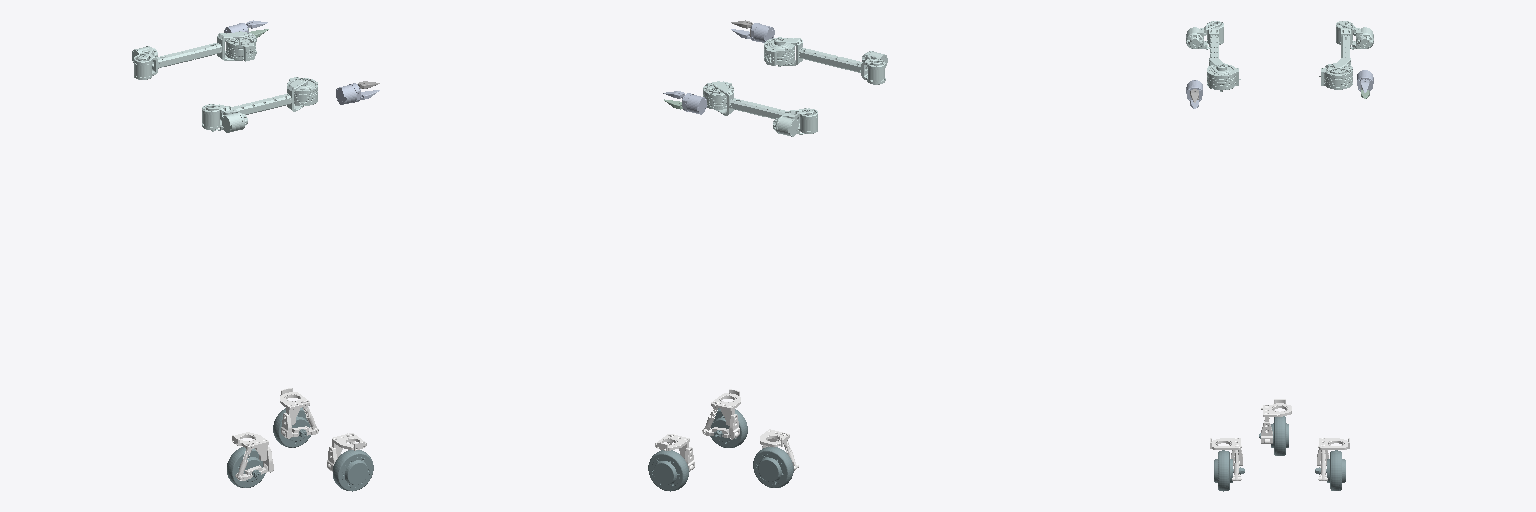
--- What the picture shows (computed from the rendered views, not written in the file) ---
3 views of the same robot in one strip: view 1: azimuth 30°, elevation 25°; view 2: azimuth 150°, elevation 25°; view 3: azimuth 270°, elevation 25° (orthographic).
Model r1urdfv20 with 24 links and 23 joints (15 revolute, 3 continuous, 4 prismatic, 1 fixed), rooted at base_link, posed all joints at 0.
Links seen in each view (by area): view 1: left_arm_2_Link, front_right_wheel_Link, right_arm_2_Link, front_left_turn_Link, rear_turn_Link, rear_wheel_Link, front_left_wheel_Link, left_arm_1_Link, front_right_turn_Link, right_arm_3_Link, right_arm_1_Link; view 2: right_arm_2_Link, rear_wheel_Link, front_left_wheel_Link, left_arm_2_Link, front_right_turn_Link, front_right_wheel_Link, right_arm_1_Link, front_left_turn_Link, left_arm_3_Link, rear_turn_Link; view 3: left_arm_1_Link, right_arm_1_Link, front_right_wheel_Link, front_left_wheel_Link, rear_turn_Link, front_right_turn_Link, front_left_turn_Link, rear_wheel_Link, right_arm_2_Link, left_arm_2_Link.
Link boxes in pixels (x1=…): left_arm_2_Link: x1=134, y1=32, x2=245, y2=79; front_right_wheel_Link: x1=333, y1=450, x2=373, y2=491; right_arm_2_Link: x1=202, y1=78, x2=307, y2=129; front_left_turn_Link: x1=280, y1=388, x2=318, y2=438; rear_turn_Link: x1=232, y1=432, x2=273, y2=480; rear_wheel_Link: x1=227, y1=447, x2=265, y2=487; front_left_wheel_Link: x1=273, y1=407, x2=310, y2=447; left_arm_1_Link: x1=225, y1=31, x2=256, y2=61; front_right_turn_Link: x1=327, y1=433, x2=366, y2=471; right_arm_3_Link: x1=206, y1=104, x2=247, y2=132; right_arm_1_Link: x1=287, y1=77, x2=317, y2=106; right_arm_2_Link: x1=774, y1=37, x2=885, y2=84; rear_wheel_Link: x1=753, y1=447, x2=793, y2=487; front_left_wheel_Link: x1=648, y1=450, x2=688, y2=491; left_arm_2_Link: x1=713, y1=82, x2=817, y2=133; front_right_turn_Link: x1=702, y1=389, x2=740, y2=439; front_right_wheel_Link: x1=710, y1=408, x2=747, y2=447; right_arm_1_Link: x1=764, y1=38, x2=794, y2=66; front_left_turn_Link: x1=655, y1=434, x2=694, y2=471; left_arm_3_Link: x1=773, y1=108, x2=813, y2=136; rear_turn_Link: x1=760, y1=429, x2=798, y2=470; left_arm_1_Link: x1=1319, y1=63, x2=1352, y2=89; right_arm_1_Link: x1=1207, y1=64, x2=1240, y2=91; front_right_wheel_Link: x1=1214, y1=450, x2=1244, y2=491; front_left_wheel_Link: x1=1315, y1=450, x2=1345, y2=490; rear_turn_Link: x1=1261, y1=399, x2=1291, y2=443; front_right_turn_Link: x1=1210, y1=438, x2=1242, y2=480; front_left_turn_Link: x1=1317, y1=438, x2=1349, y2=480; rear_wheel_Link: x1=1259, y1=416, x2=1288, y2=455; right_arm_2_Link: x1=1207, y1=21, x2=1226, y2=70; left_arm_2_Link: x1=1333, y1=21, x2=1352, y2=68.
Size in the robot's own frame: 0.6387 by 0.635 by 1.49 metres.
18 mesh visuals loaded from 24 distinct referenced files (18 binary STL); not drawn: 6 (reference not matched to a file when rendering).

robot.urdf — r1urdfv20:
<?xml version="1.0" encoding="utf-8"?>
<!-- This URDF was automatically created by SolidWorks to URDF Exporter! Originally created by Stephen Brawner ([email redacted]) 
     Commit Version: 1.6.0-4-g7f85cfe  Build Version: 1.6.7995.38578
     For more information, please see http://wiki.ros.org/sw_urdf_exporter -->
<robot
  name="r1urdfv20">
  <link
    name="base_link">
    <inertial>
      <origin
        xyz="-0.026382 -0.0012728 0.5966"
        rpy="0 0 0" />
      <mass
        value="15.491" />
      <inertia
        ixx="0.13933"
        ixy="-3.1833E-06"
        ixz="-7.9787E-05"
        iyy="0.090681"
        iyz="-1.7144E-05"
        izz="0.074444" />
    </inertial>
    <visual>
      <origin
        xyz="0 0 0"
        rpy="0 0 0" />
      <geometry>
        <mesh
          filename="package://r1urdfv20/meshes/base_link.STL" />
      </geometry>
      <material
        name="">
        <color
          rgba="0.6 0.6 0.6 1" />
      </material>
    </visual>
    <collision>
      <origin
        xyz="0 0 0"
        rpy="0 0 0" />
      <geometry>
        <mesh
          filename="package://r1urdfv20/meshes/base_link.STL" />
      </geometry>
    </collision>
  </link>
  <link
    name="right_arm_1_Link">
    <inertial>
      <origin
        xyz="0.00048295 0.066513 -4.391E-05"
        rpy="0 0 0" />
      <mass
        value="0.3988" />
      <inertia
        ixx="0.00047196"
        ixy="2.0689E-07"
        ixz="-1.1491E-08"
        iyy="0.00029232"
        iyz="3.8468E-09"
        izz="0.00029753" />
    </inertial>
    <visual>
      <origin
        xyz="0 0 0"
        rpy="0 0 0" />
      <geometry>
        <mesh
          filename="package://r1urdfv20/meshes/right_arm_1_Link.STL" />
      </geometry>
      <material
        name="">
        <color
          rgba="0.86275 0.93333 0.92941 1" />
      </material>
    </visual>
    <collision>
      <origin
        xyz="0 0 0"
        rpy="0 0 0" />
      <geometry>
        <mesh
          filename="package://r1urdfv20/meshes/right_arm_1_Link.STL" />
      </geometry>
    </collision>
  </link>
  <joint
    name="right_arm_1"
    type="revolute">
    <origin
      xyz="-0.055 -0.1293 1.375"
      rpy="3.1416 1.5708 0" />
    <parent
      link="base_link" />
    <child
      link="right_arm_1_Link" />
    <axis
      xyz="0 1 0" />
    <limit
      lower="-2.9671"
      upper="2.9671"
      effort="40"
      velocity="20.944" />
  </joint>
  <link
    name="right_arm_2_Link">
    <inertial>
      <origin
        xyz="0.242 0.032943 -0.021091"
        rpy="0 0 0" />
      <mass
        value="0.3043" />
      <inertia
        ixx="8.211E-05"
        ixy="-8.0136E-07"
        ixz="7.5433E-06"
        iyy="0.0004609"
        iyz="3.4645E-07"
        izz="0.00043677" />
    </inertial>
    <visual>
      <origin
        xyz="0 0 0"
        rpy="0 0 0" />
      <geometry>
        <mesh
          filename="package://r1urdfv20/meshes/right_arm_2_Link.STL" />
      </geometry>
      <material
        name="">
        <color
          rgba="0.86275 0.93333 0.92941 1" />
      </material>
    </visual>
    <collision>
      <origin
        xyz="0 0 0"
        rpy="0 0 0" />
      <geometry>
        <mesh
          filename="package://r1urdfv20/meshes/right_arm_2_Link.STL" />
      </geometry>
    </collision>
  </link>
  <joint
    name="right_arm_2"
    type="revolute">
    <origin
      xyz="0.0316 0.0682 0"
      rpy="1.5708 -1.5708 0" />
    <parent
      link="right_arm_1_Link" />
    <child
      link="right_arm_2_Link" />
    <axis
      xyz="0 1 0" />
    <limit
      lower="0"
      upper="3.1416"
      effort="40"
      velocity="20.944" />
  </joint>
  <link
    name="right_arm_3_Link">
    <inertial>
      <origin
        xyz="0.056289 0.028703 0.046011"
        rpy="0 0 0" />
      <mass
        value="0.17673" />
      <inertia
        ixx="7.1112E-05"
        ixy="7.7555E-08"
        ixz="-1.3314E-05"
        iyy="7.316E-05"
        iyz="1.5614E-07"
        izz="7.8276E-05" />
    </inertial>
    <visual>
      <origin
        xyz="0 0 0"
        rpy="0 0 0" />
      <geometry>
        <mesh
          filename="package://r1urdfv20/meshes/right_arm_3_Link.STL" />
      </geometry>
      <material
        name="">
        <color
          rgba="0.86275 0.93333 0.92941 1" />
      </material>
    </visual>
    <collision>
      <origin
        xyz="0 0 0"
        rpy="0 0 0" />
      <geometry>
        <mesh
          filename="package://r1urdfv20/meshes/right_arm_3_Link.STL" />
      </geometry>
    </collision>
  </link>
  <joint
    name="right_arm_3"
    type="revolute">
    <origin
      xyz="0.3493 0.0602 -0.02"
      rpy="0 1.6424 3.1416" />
    <parent
      link="right_arm_2_Link" />
    <child
      link="right_arm_3_Link" />
    <axis
      xyz="0 -1 0" />
    <limit
      lower="-3.2289"
      upper="0"
      effort="27"
      velocity="7.5398" />
  </joint>
  <link
    name="right_arm_4_Link">
    <inertial>
      <origin
        xyz="-0.00011589 -0.00095341 0.1625"
        rpy="0 0 0" />
      <mass
        value="0.1739" />
      <inertia
        ixx="9.6664E-05"
        ixy="-1.1432E-08"
        ixz="2.2087E-08"
        iyy="0.00010742"
        iyz="8.1899E-08"
        izz="4.3082E-05" />
    </inertial>
    <visual>
      <origin
        xyz="0 0 0"
        rpy="0 0 0" />
      <geometry>
        <mesh
          filename="package://r1urdfv20/meshes/right_arm_4_Link.STL" />
      </geometry>
      <material
        name="">
        <color
          rgba="0.80784 0.84314 0.90588 1" />
      </material>
    </visual>
    <collision>
      <origin
        xyz="0 0 0"
        rpy="0 0 0" />
      <geometry>
        <mesh
          filename="package://r1urdfv20/meshes/right_arm_4_Link.STL" />
      </geometry>
    </collision>
  </link>
  <joint
    name="right_arm_4"
    type="revolute">
    <origin
      xyz="0.064765 0.0286 0.075477"
      rpy="-0.071618 0 1.5708" />
    <parent
      link="right_arm_3_Link" />
    <child
      link="right_arm_4_Link" />
    <axis
      xyz="0 0 1" />
    <limit
      lower="-2.9671"
      upper="2.9671"
      effort="7"
      velocity="25.133" />
  </joint>
  <link
    name="right_arm_5_Link">
    <inertial>
      <origin
        xyz="0.053183 7.0332E-05 -0.015834"
        rpy="0 0 0" />
      <mass
        value="0.12576" />
      <inertia
        ixx="4.7409E-05"
        ixy="-1.1419E-08"
        ixz="-1.355E-07"
        iyy="3.8455E-05"
        iyz="2.2091E-08"
        izz="4.0187E-05" />
    </inertial>
    <visual>
      <origin
        xyz="0 0 0"
        rpy="0 0 0" />
      <geometry>
        <mesh
          filename="package://r1urdfv20/meshes/right_arm_5_Link.STL" />
      </geometry>
      <material
        name="">
        <color
          rgba="0.80784 0.84314 0.90588 1" />
      </material>
    </visual>
    <collision>
      <origin
        xyz="0 0 0"
        rpy="0 0 0" />
      <geometry>
        <mesh
          filename="package://r1urdfv20/meshes/right_arm_5_Link.STL" />
      </geometry>
    </collision>
  </link>
  <joint
    name="right_arm_5"
    type="revolute">
    <origin
      xyz="0 -0.019 0.203"
      rpy="1.5708 -1.5708 0" />
    <parent
      link="right_arm_4_Link" />
    <child
      link="right_arm_5_Link" />
    <axis
      xyz="0 0 1" />
    <limit
      lower="-1.5708"
      upper="1.5708"
      effort="7"
      velocity="25.133" />
  </joint>
  <link
    name="right_arm_6_Link">
    <inertial>
      <origin
        xyz="9.006E-05 -0.015875 1.5779E-05"
        rpy="0 0 0" />
      <mass
        value="0.12251" />
      <inertia
        ixx="3.7405E-05"
        ixy="-1.1418E-08"
        ixz="-2.2072E-08"
        iyy="5.199E-05"
        iyz="-2.2628E-12"
        izz="3.9632E-05" />
    </inertial>
    <visual>
      <origin
        xyz="0 0 0"
        rpy="0 0 0" />
      <geometry>
        <mesh
          filename="package://r1urdfv20/meshes/right_arm_6_Link.STL" />
      </geometry>
      <material
        name="">
        <color
          rgba="0.80784 0.84314 0.90588 1" />
      </material>
    </visual>
    <collision>
      <origin
        xyz="0 0 0"
        rpy="0 0 0" />
      <geometry>
        <mesh
          filename="package://r1urdfv20/meshes/right_arm_6_Link.STL" />
      </geometry>
    </collision>
  </link>
  <joint
    name="right_arm_6"
    type="revolute">
    <origin
      xyz="0.207 0 -0.019"
      rpy="0 0 -1.5708" />
    <parent
      link="right_arm_5_Link" />
    <child
      link="right_arm_6_Link" />
    <axis
      xyz="0 1 0" />
    <limit
      lower="-3.1416"
      upper="3.1416"
      effort="7"
      velocity="25.133" />
  </joint>
  <link
    name="right_gripper_1_Link">
    <inertial>
      <origin
        xyz="0.0151 0.046663 0.0013002"
        rpy="0 0 0" />
      <mass
        value="0.02084" />
      <inertia
        ixx="5.3593E-06"
        ixy="3.2105E-07"
        ixz="8.4132E-08"
        iyy="1.6486E-06"
        iyz="8.4389E-08"
        izz="4.7101E-06" />
    </inertial>
    <visual>
      <origin
        xyz="0 0 0"
        rpy="0 0 0" />
      <geometry>
        <mesh
          filename="package://r1urdfv20/meshes/right_gripper_1_Link.STL" />
      </geometry>
      <material
        name="">
        <color
          rgba="0.80784 0.84314 0.90588 1" />
      </material>
    </visual>
    <collision>
      <origin
        xyz="0 0 0"
        rpy="0 0 0" />
      <geometry>
        <mesh
          filename="package://r1urdfv20/meshes/right_gripper_1_Link.STL" />
      </geometry>
    </collision>
  </link>
  <joint
    name="right_gripper_1"
    type="prismatic">
    <origin
      xyz="0 0 0"
      rpy="0 0 0" />
    <parent
      link="right_arm_6_Link" />
    <child
      link="right_gripper_1_Link" />
    <axis
      xyz="1 0 0" />
    <limit
      lower="-0.01139"
      upper="0.01861"
      effort="200"
      velocity="0.25" />
  </joint>
  <link
    name="right_gripper_2_Link">
    <inertial>
      <origin
        xyz="-0.0151 0.046663 -0.0013002"
        rpy="0 0 0" />
      <mass
        value="0.02084" />
      <inertia
        ixx="5.3593E-06"
        ixy="-3.2105E-07"
        ixz="8.4132E-08"
        iyy="1.6486E-06"
        iyz="-8.439E-08"
        izz="4.7101E-06" />
    </inertial>
    <visual>
      <origin
        xyz="0 0 0"
        rpy="0 0 0" />
      <geometry>
        <mesh
          filename="package://r1urdfv20/meshes/right_gripper_2_Link.STL" />
      </geometry>
      <material
        name="">
        <color
          rgba="0.75294 0.75294 0.75294 1" />
      </material>
    </visual>
    <collision>
      <origin
        xyz="0 0 0"
        rpy="0 0 0" />
      <geometry>
        <mesh
          filename="package://r1urdfv20/meshes/right_gripper_2_Link.STL" />
      </geometry>
    </collision>
  </link>
  <joint
    name="right_gripper_2"
    type="prismatic">
    <origin
      xyz="0 0 0"
      rpy="0 0 0" />
    <parent
      link="right_arm_6_Link" />
    <child
      link="right_gripper_2_Link" />
    <axis
      xyz="-1 0 0" />
    <limit
      lower="-0.01139"
      upper="0.01861"
      effort="200"
      velocity="0.25" />
  </joint>
  <link
    name="left_arm_1_Link">
    <inertial>
      <origin
        xyz="0.00048295 -0.066513 4.391E-05"
        rpy="0 0 0" />
      <mass
        value="0.3988" />
      <inertia
        ixx="0.00047196"
        ixy="-2.0689E-07"
        ixz="1.1491E-08"
        iyy="0.00029232"
        iyz="3.8468E-09"
        izz="0.00029753" />
    </inertial>
    <visual>
      <origin
        xyz="0 0 0"
        rpy="0 0 0" />
      <geometry>
        <mesh
          filename="package://r1urdfv20/meshes/left_arm_1_Link.STL" />
      </geometry>
      <material
        name="">
        <color
          rgba="0.86275 0.93333 0.92941 1" />
      </material>
    </visual>
    <collision>
      <origin
        xyz="0 0 0"
        rpy="0 0 0" />
      <geometry>
        <mesh
          filename="package://r1urdfv20/meshes/left_arm_1_Link.STL" />
      </geometry>
    </collision>
  </link>
  <joint
    name="left_arm_1"
    type="revolute">
    <origin
      xyz="-0.055 0.1293 1.375"
      rpy="0 -1.5708 3.14159265358979" />
    <parent
      link="base_link" />
    <child
      link="left_arm_1_Link" />
    <axis
      xyz="0 -1 0" />
    <limit
      lower="-2.9671"
      upper="2.9671"
      effort="40"
      velocity="20.944" />
  </joint>
  <link
    name="left_arm_2_Link">
    <inertial>
      <origin
        xyz="0.242 0.032943 -0.021091"
        rpy="0 0 0" />
      <mass
        value="0.3043" />
      <inertia
        ixx="8.211E-05"
        ixy="-8.0136E-07"
        ixz="7.5433E-06"
        iyy="0.0004609"
        iyz="3.4645E-07"
        izz="0.00043677" />
    </inertial>
    <visual>
      <origin
        xyz="0 0 0"
        rpy="0 0 0" />
      <geometry>
        <mesh
          filename="package://r1urdfv20/meshes/left_arm_2_Link.STL" />
      </geometry>
      <material
        name="">
        <color
          rgba="0.86275 0.93333 0.92941 1" />
      </material>
    </visual>
    <collision>
      <origin
        xyz="0 0 0"
        rpy="0 0 0" />
      <geometry>
        <mesh
          filename="package://r1urdfv20/meshes/left_arm_2_Link.STL" />
      </geometry>
    </collision>
  </link>
  <joint
    name="left_arm_2"
    type="revolute">
    <origin
      xyz="0.0316 -0.0682 0"
      rpy="-1.5708 1.5708 0" />
    <parent
      link="left_arm_1_Link" />
    <child
      link="left_arm_2_Link" />
    <axis
      xyz="0 1 0" />
    <limit
      lower="0"
      upper="3.1416"
      effort="40"
      velocity="20.944" />
  </joint>
  <link
    name="left_arm_3_Link">
    <inertial>
      <origin
        xyz="0.056289 0.028703 0.046011"
        rpy="0 0 0" />
      <mass
        value="0.17673" />
      <inertia
        ixx="7.1112E-05"
        ixy="7.755E-08"
        ixz="-1.3314E-05"
        iyy="7.316E-05"
        iyz="1.5613E-07"
        izz="7.8276E-05" />
    </inertial>
    <visual>
      <origin
        xyz="0 0 0"
        rpy="0 0 0" />
      <geometry>
        <mesh
          filename="package://r1urdfv20/meshes/left_arm_3_Link.STL" />
      </geometry>
      <material
        name="">
        <color
          rgba="0.86275 0.93333 0.92941 1" />
      </material>
    </visual>
    <collision>
      <origin
        xyz="0 0 0"
        rpy="0 0 0" />
      <geometry>
        <mesh
          filename="package://r1urdfv20/meshes/left_arm_3_Link.STL" />
      </geometry>
    </collision>
  </link>
  <joint
    name="left_arm_3"
    type="revolute">
    <origin
      xyz="0.3493 0.0602 -0.02"
      rpy="0 1.6424 3.1416" />
    <parent
      link="left_arm_2_Link" />
    <child
      link="left_arm_3_Link" />
    <axis
      xyz="0 -1 0" />
    <limit
      lower="-3.2289"
      upper="0"
      effort="27"
      velocity="7.5398" />
  </joint>
  <link
    name="left_arm_4_Link">
    <inertial>
      <origin
        xyz="0.00011589 0.00095341 0.1725"
        rpy="0 0 0" />
      <mass
        value="0.1739" />
      <inertia
        ixx="9.6664E-05"
        ixy="-1.1432E-08"
        ixz="-2.2087E-08"
        iyy="0.00010742"
        iyz="-8.1899E-08"
        izz="4.3082E-05" />
    </inertial>
    <visual>
      <origin
        xyz="0 0 0"
        rpy="0 0 0" />
      <geometry>
        <mesh
          filename="package://r1urdfv20/meshes/left_arm_4_Link.STL" />
      </geometry>
      <material
        name="">
        <color
          rgba="0.80784 0.84314 0.90588 1" />
      </material>
    </visual>
    <collision>
      <origin
        xyz="0 0 0"
        rpy="0 0 0" />
      <geometry>
        <mesh
          filename="package://r1urdfv20/meshes/left_arm_4_Link.STL" />
      </geometry>
    </collision>
  </link>
  <joint
    name="left_arm_4"
    type="revolute">
    <origin
      xyz="0.065481 0.0286 0.065502"
      rpy="0.071618 0 -1.5708" />
    <parent
      link="left_arm_3_Link" />
    <child
      link="left_arm_4_Link" />
    <axis
      xyz="0 0 1" />
    <limit
      lower="-2.9671"
      upper="2.9671"
      effort="7"
      velocity="25.133" />
  </joint>
  <link
    name="left_arm_5_Link">
    <inertial>
      <origin
        xyz="0.053183 7.0332E-05 -0.015834"
        rpy="0 0 0" />
      <mass
        value="0.12576" />
      <inertia
        ixx="4.7409E-05"
        ixy="-1.1419E-08"
        ixz="-1.355E-07"
        iyy="3.8455E-05"
        iyz="2.2091E-08"
        izz="4.0187E-05" />
    </inertial>
    <visual>
      <origin
        xyz="0 0 0"
        rpy="0 0 0" />
      <geometry>
        <mesh
          filename="package://r1urdfv20/meshes/left_arm_5_Link.STL" />
      </geometry>
      <material
        name="">
        <color
          rgba="0.80784 0.84314 0.90588 1" />
      </material>
    </visual>
    <collision>
      <origin
        xyz="0 0 0"
        rpy="0 0 0" />
      <geometry>
        <mesh
          filename="package://r1urdfv20/meshes/left_arm_5_Link.STL" />
      </geometry>
    </collision>
  </link>
  <joint
    name="left_arm_5"
    type="revolute">
    <origin
      xyz="0 0.019 0.213"
      rpy="1.5708 -1.5708 3.1416" />
    <parent
      link="left_arm_4_Link" />
    <child
      link="left_arm_5_Link" />
    <axis
      xyz="0 0 1" />
    <limit
      lower="-1.5708"
      upper="1.5708"
      effort="7"
      velocity="25.133" />
  </joint>
  <link
    name="left_arm_6_Link">
    <inertial>
      <origin
        xyz="9.006E-05 0.015875 -1.5779E-05"
        rpy="0 0 0" />
      <mass
        value="0.12251" />
      <inertia
        ixx="3.7405E-05"
        ixy="1.1418E-08"
        ixz="2.2072E-08"
        iyy="5.199E-05"
        iyz="-2.2628E-12"
        izz="3.9632E-05" />
    </inertial>
    <visual>
      <origin
        xyz="0 0 0"
        rpy="0 0 0" />
      <geometry>
        <mesh
          filename="package://r1urdfv20/meshes/left_arm_6_Link.STL" />
      </geometry>
      <material
        name="">
        <color
          rgba="0.80784 0.84314 0.90588 1" />
      </material>
    </visual>
    <collision>
      <origin
        xyz="0 0 0"
        rpy="0 0 0" />
      <geometry>
        <mesh
          filename="package://r1urdfv20/meshes/left_arm_6_Link.STL" />
      </geometry>
    </collision>
  </link>
  <joint
    name="left_arm_6"
    type="revolute">
    <origin
      xyz="0.127 0 -0.019"
      rpy="-3.1416 0 -1.5708" />
    <parent
      link="left_arm_5_Link" />
    <child
      link="left_arm_6_Link" />
    <axis
      xyz="0 -1 0" />
    <limit
      lower="-1.5708"
      upper="1.5708"
      effort="7"
      velocity="25.133" />
  </joint>
  <link
    name="left_gripper_1_Link">
    <inertial>
      <origin
        xyz="0.0151 -0.046663 -0.0013002"
        rpy="0 0 0" />
      <mass
        value="0.02084" />
      <inertia
        ixx="5.3593E-06"
        ixy="-3.2105E-07"
        ixz="-8.4132E-08"
        iyy="1.6486E-06"
        iyz="8.4389E-08"
        izz="4.7101E-06" />
    </inertial>
    <visual>
      <origin
        xyz="0 0 0"
        rpy="0 0 0" />
      <geometry>
        <mesh
          filename="package://r1urdfv20/meshes/left_gripper_1_Link.STL" />
      </geometry>
      <material
        name="">
        <color
          rgba="0.80784 0.84314 0.90588 1" />
      </material>
    </visual>
    <collision>
      <origin
        xyz="0 0 0"
        rpy="0 0 0" />
      <geometry>
        <mesh
          filename="package://r1urdfv20/meshes/left_gripper_1_Link.STL" />
      </geometry>
    </collision>
  </link>
  <joint
    name="left_gripper_1"
    type="prismatic">
    <origin
      xyz="0 0 0"
      rpy="0 0 0" />
    <parent
      link="left_arm_6_Link" />
    <child
      link="left_gripper_1_Link" />
    <axis
      xyz="1 0 0" />
    <limit
      lower="-0.01139"
      upper="0.01861"
      effort="200"
      velocity="0.25" />
  </joint>
  <link
    name="left_gripper_2_Link">
    <inertial>
      <origin
        xyz="-0.0151 -0.046663 0.0013002"
        rpy="0 0 0" />
      <mass
        value="0.02084" />
      <inertia
        ixx="5.3593E-06"
        ixy="3.2105E-07"
        ixz="-8.4132E-08"
        iyy="1.6486E-06"
        iyz="-8.439E-08"
        izz="4.7101E-06" />
    </inertial>
    <visual>
      <origin
        xyz="0 0 0"
        rpy="0 0 0" />
      <geometry>
        <mesh
          filename="package://r1urdfv20/meshes/left_gripper_2_Link.STL" />
      </geometry>
      <material
        name="">
        <color
          rgba="0.71765 0.80784 0.76471 1" />
      </material>
    </visual>
    <collision>
      <origin
        xyz="0 0 0"
        rpy="0 0 0" />
      <geometry>
        <mesh
          filename="package://r1urdfv20/meshes/left_gripper_2_Link.STL" />
      </geometry>
    </collision>
  </link>
  <joint
    name="left_gripper_2"
    type="prismatic">
    <origin
      xyz="0 0 0"
      rpy="0 0 0" />
    <parent
      link="left_arm_6_Link" />
    <child
      link="left_gripper_2_Link" />
    <axis
      xyz="-1 0 0" />
    <limit
      lower="-0.01139"
      upper="0.01861"
      effort="200"
      velocity="0.25" />
  </joint>
  <link
    name="front_right_turn_Link">
    <inertial>
      <origin
        xyz="-0.012414 0.032699 -0.046417"
        rpy="0 0 0" />
      <mass
        value="0.16675" />
      <inertia
        ixx="7.3159E-05"
        ixy="3.7819E-06"
        ixz="3.7917E-06"
        iyy="9.3643E-05"
        iyz="-4.3522E-07"
        izz="0.00011402" />
    </inertial>
    <visual>
      <origin
        xyz="0 0 0"
        rpy="0 0 0" />
      <geometry>
        <mesh
          filename="package://r1urdfv20/meshes/front_right_turn_Link.STL" />
      </geometry>
      <material
        name="">
        <color
          rgba="1 1 1 1" />
      </material>
    </visual>
    <collision>
      <origin
        xyz="0 0 0"
        rpy="0 0 0" />
      <geometry>
        <mesh
          filename="package://r1urdfv20/meshes/front_right_turn_Link.STL" />
      </geometry>
    </collision>
  </link>
  <joint
    name="front_right_turn"
    type="revolute">
    <origin
      xyz="0.134 -0.19 0.093"
      rpy="0 0 0" />
    <parent
      link="base_link" />
    <child
      link="front_right_turn_Link" />
    <axis
      xyz="0 0 1" />
    <limit
      lower="-1.5708"
      upper="1.5708"
      effort="30"
      velocity="3.1416" />
  </joint>
  <link
    name="front_right_wheel_Link">
    <inertial>
      <origin
        xyz="-0.012646 4.103E-08 1.2733E-07"
        rpy="0 0 0" />
      <mass
        value="0.50128" />
      <inertia
        ixx="0.001126"
        ixy="-7.075E-12"
        ixz="-5.024E-10"
        iyy="0.00060866"
        iyz="4.3853E-10"
        izz="0.00060864" />
    </inertial>
    <visual>
      <origin
        xyz="0 0 0"
        rpy="0 0 0" />
      <geometry>
        <mesh
          filename="package://r1urdfv20/meshes/front_right_wheel_Link.STL" />
      </geometry>
      <material
        name="">
        <color
          rgba="0.59216 0.66667 0.68235 1" />
      </material>
    </visual>
    <collision>
      <origin
        xyz="0 0 0"
        rpy="0 0 0" />
      <geometry>
        <mesh
          filename="package://r1urdfv20/meshes/front_right_wheel_Link.STL" />
      </geometry>
    </collision>
  </link>
  <joint
    name="front_right_wheel"
    type="continuous">
    <origin
      xyz="0.00093535 0.01445 -0.098784"
      rpy="1.6618 0 1.5708" />
    <parent
      link="front_right_turn_Link" />
    <child
      link="front_right_wheel_Link" />
    <axis
      xyz="1 0 0" />
    <limit
      lower="-31416"
      upper="31416"
      effort="3.2"
      velocity="14.389" />
  </joint>
  <link
    name="rear_turn_Link">
    <inertial>
      <origin
        xyz="0.010502 -0.033391 -0.045748"
        rpy="0 0 0" />
      <mass
        value="0.16929" />
      <inertia
        ixx="7.5887E-05"
        ixy="5.053E-06"
        ixz="-3.7803E-06"
        iyy="9.6739E-05"
        iyz="4.7274E-07"
        izz="0.0001198" />
    </inertial>
    <visual>
      <origin
        xyz="0 0 0"
        rpy="0 0 0" />
      <geometry>
        <mesh
          filename="package://r1urdfv20/meshes/rear_turn_Link.STL" />
      </geometry>
      <material
        name="">
        <color
          rgba="1 1 1 1" />
      </material>
    </visual>
    <collision>
      <origin
        xyz="0 0 0"
        rpy="0 0 0" />
      <geometry>
        <mesh
          filename="package://r1urdfv20/meshes/rear_turn_Link.STL" />
      </geometry>
    </collision>
  </link>
  <joint
    name="rear_turn"
    type="revolute">
    <origin
      xyz="-0.145 0 0.093"
      rpy="0 0 0" />
    <parent
      link="base_link" />
    <child
      link="rear_turn_Link" />
    <axis
      xyz="0 0 1" />
    <limit
      lower="-1.5708"
      upper="1.5708"
      effort="30"
      velocity="3.1416" />
  </joint>
  <link
    name="rear_wheel_Link">
    <inertial>
      <origin
        xyz="-0.012646 4.103E-08 1.2733E-07"
        rpy="0 0 0" />
      <mass
        value="0.50128" />
      <inertia
        ixx="0.001126"
        ixy="-7.075E-12"
        ixz="-5.024E-10"
        iyy="0.00060866"
        iyz="4.3853E-10"
        izz="0.00060864" />
    </inertial>
    <visual>
      <origin
        xyz="0 0 0"
        rpy="0 0 0" />
      <geometry>
        <mesh
          filename="package://r1urdfv20/meshes/rear_wheel_Link.STL" />
      </geometry>
      <material
        name="">
        <color
          rgba="0.59216 0.66667 0.68235 1" />
      </material>
    </visual>
    <collision>
      <origin
        xyz="0 0 0"
        rpy="0 0 0" />
      <geometry>
        <mesh
          filename="package://r1urdfv20/meshes/rear_wheel_Link.STL" />
      </geometry>
    </collision>
  </link>
  <joint
    name="rear_wheel"
    type="continuous">
    <origin
      xyz="-0.00093535 -0.01445 -0.098784"
      rpy="1.6618 0 -1.5708" />
    <parent
      link="rear_turn_Link" />
    <child
      link="rear_wheel_Link" />
    <axis
      xyz="-1 0 0" />
    <limit
      lower="-31416"
      upper="31416"
      effort="3.2"
      velocity="14.389" />
  </joint>
  <link
    name="front_left_turn_Link">
    <inertial>
      <origin
        xyz="-0.01239 -0.032748 -0.046377"
        rpy="0 0 0" />
      <mass
        value="0.16689" />
      <inertia
        ixx="7.3217E-05"
        ixy="-3.8098E-06"
        ixz="3.7915E-06"
        iyy="9.3648E-05"
        iyz="-4.4278E-07"
        izz="0.00011408" />
    </inertial>
    <visual>
      <origin
        xyz="0 0 0"
        rpy="0 0 0" />
      <geometry>
        <mesh
          filename="package://r1urdfv20/meshes/front_left_turn_Link.STL" />
      </geometry>
      <material
        name="">
        <color
          rgba="1 1 1 1" />
      </material>
    </visual>
    <collision>
      <origin
        xyz="0 0 0"
        rpy="0 0 0" />
      <geometry>
        <mesh
          filename="package://r1urdfv20/meshes/front_left_turn_Link.STL" />
      </geometry>
    </collision>
  </link>
  <joint
    name="front_left_turn"
    type="revolute">
    <origin
      xyz="0.134 0.19 0.093"
      rpy="0 0 0" />
    <parent
      link="base_link" />
    <child
      link="front_left_turn_Link" />
    <axis
      xyz="0 0 1" />
    <limit
      lower="-1.5708"
      upper="1.5708"
      effort="30"
      velocity="3.1416" />
  </joint>
  <link
    name="front_left_wheel_Link">
    <inertial>
      <origin
        xyz="-0.012646 4.103E-08 1.2733E-07"
        rpy="0 0 0" />
      <mass
        value="0.50128" />
      <inertia
        ixx="0.001126"
        ixy="-7.0758E-12"
        ixz="-5.024E-10"
        iyy="0.00060866"
        iyz="1.9226E-09"
        izz="0.00060863" />
    </inertial>
    <visual>
      <origin
        xyz="0 0 0"
        rpy="0 0 0" />
      <geometry>
        <mesh
          filename="package://r1urdfv20/meshes/front_left_wheel_Link.STL" />
      </geometry>
      <material
        name="">
        <color
          rgba="0.59216 0.66667 0.68235 1" />
      </material>
    </visual>
    <collision>
      <origin
        xyz="0 0 0"
        rpy="0 0 0" />
      <geometry>
        <mesh
          filename="package://r1urdfv20/meshes/front_left_wheel_Link.STL" />
      </geometry>
    </collision>
  </link>
  <joint
    name="front_left_wheel"
    type="continuous">
    <origin
      xyz="0.00093535 -0.01445 -0.098784"
      rpy="1.4605 0 -1.5708" />
    <parent
      link="front_left_turn_Link" />
    <child
      link="front_left_wheel_Link" />
    <axis
      xyz="-1 0 0" />
    <limit
      lower="-31416"
      upper="31416"
      effort="3.2"
      velocity="14.389" />
  </joint>
  <link
    name="realsensecamera_link">
    <inertial>
      <origin
        xyz="0.0016804 2.4468E-06 -0.013272"
        rpy="0 0 0" />
      <mass
        value="0.038189" />
      <inertia
        ixx="2.1117E-06"
        ixy="-7.8054E-09"
        ixz="4.5151E-08"
        iyy="2.2255E-05"
        iyz="-1.3026E-08"
        izz="2.3571E-05" />
    </inertial>
    <visual>
      <origin
        xyz="0 0 0"
        rpy="0 0 0" />
      <geometry>
        <mesh
          filename="package://r1urdfv20/meshes/realsensecamera_link.STL" />
      </geometry>
      <material
        name="">
        <color
          rgba="0.59216 0.66667 0.68235 1" />
      </material>
    </visual>
    <collision>
      <origin
        xyz="0 0 0"
        rpy="0 0 0" />
      <geometry>
        <mesh
          filename="package://r1urdfv20/meshes/realsensecamera_link.STL" />
      </geometry>
    </collision>
  </link>
  <joint
    name="realsensecamera_joint"
    type="fixed">
    <origin
      xyz="-0.053794 0 1.4848"
      rpy="2.0071 0 1.5708" />
    <parent
      link="base_link" />
    <child
      link="realsensecamera_link" />
    <axis
      xyz="0 0 0" />
  </joint>
</robot>
